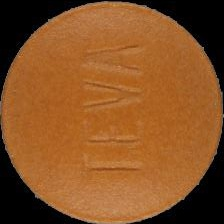0615-4594: (0, 0, 224, 224)
